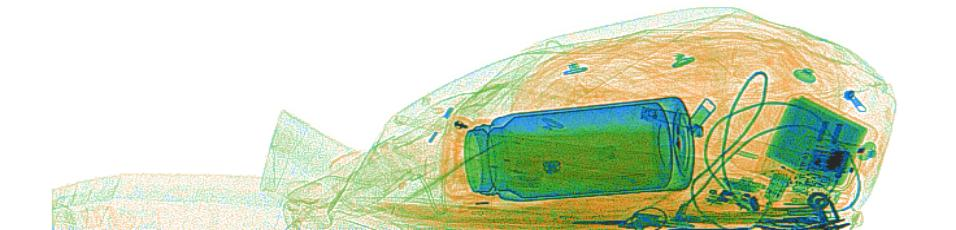plasticBottleWithaNozzle: (701, 134, 815, 185)
